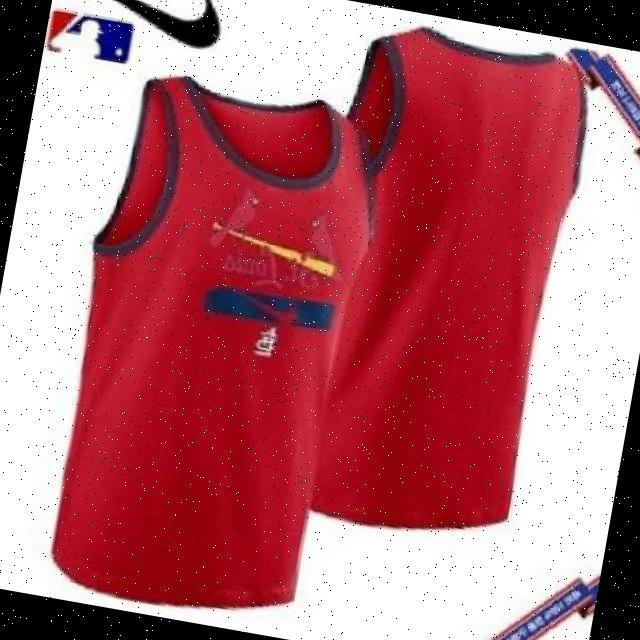Nike: (55, 0, 229, 51)
